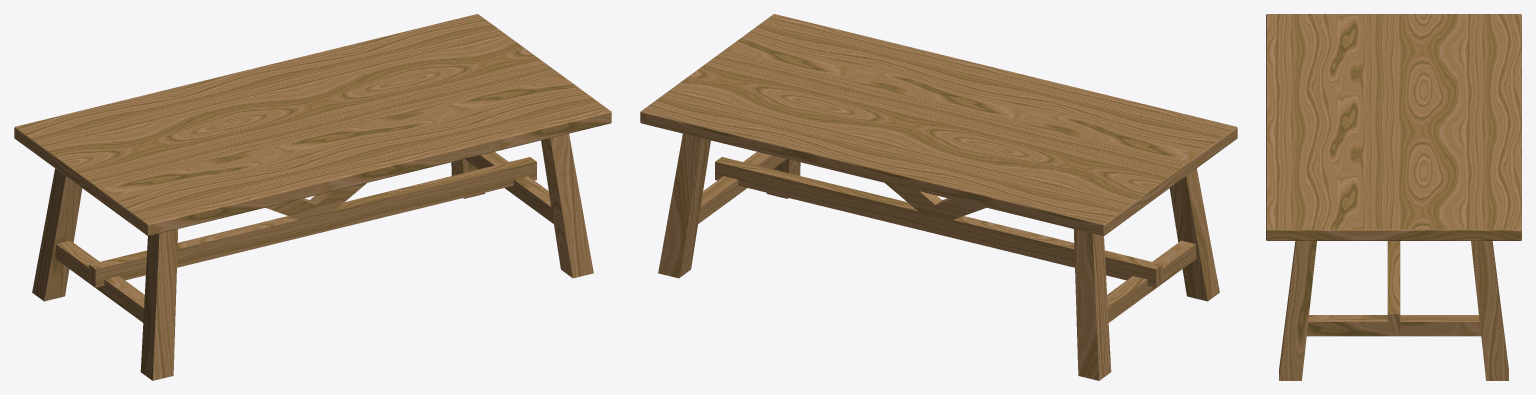
The model's file is kitchen table.fbx.
3 views of the same model, side by side, from view 1: azimuth 30°, elevation 25°; view 2: azimuth 150°, elevation 25°; view 3: azimuth 270°, elevation 25° (orthographic). The views are drawn at different scales.
Visible parts, largest first — view 1: kitchen_table:Solid1; view 2: kitchen_table:Solid1; view 3: kitchen_table:Solid1.
Part boxes in pixels (x1,y1,x2,y2): kitchen_table:Solid1: (14,14,611,380); kitchen_table:Solid1: (640,14,1237,380); kitchen_table:Solid1: (1266,14,1521,380).
Size of the model in its own units: 157 by 53.15 by 78.74.
1 material, 1 textured.
